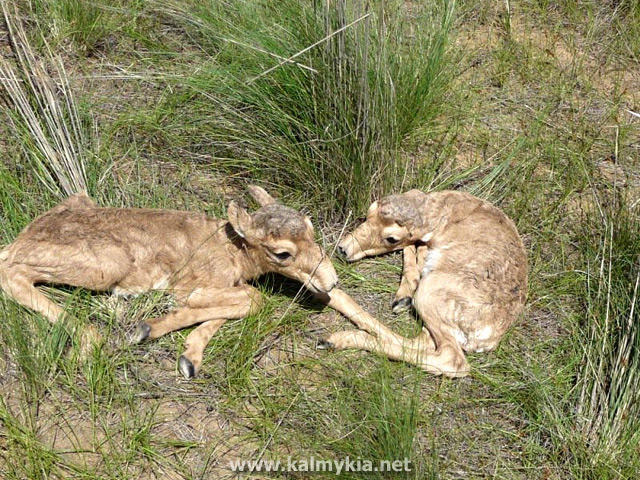saiga: (2, 185, 347, 377), (330, 189, 538, 374)
